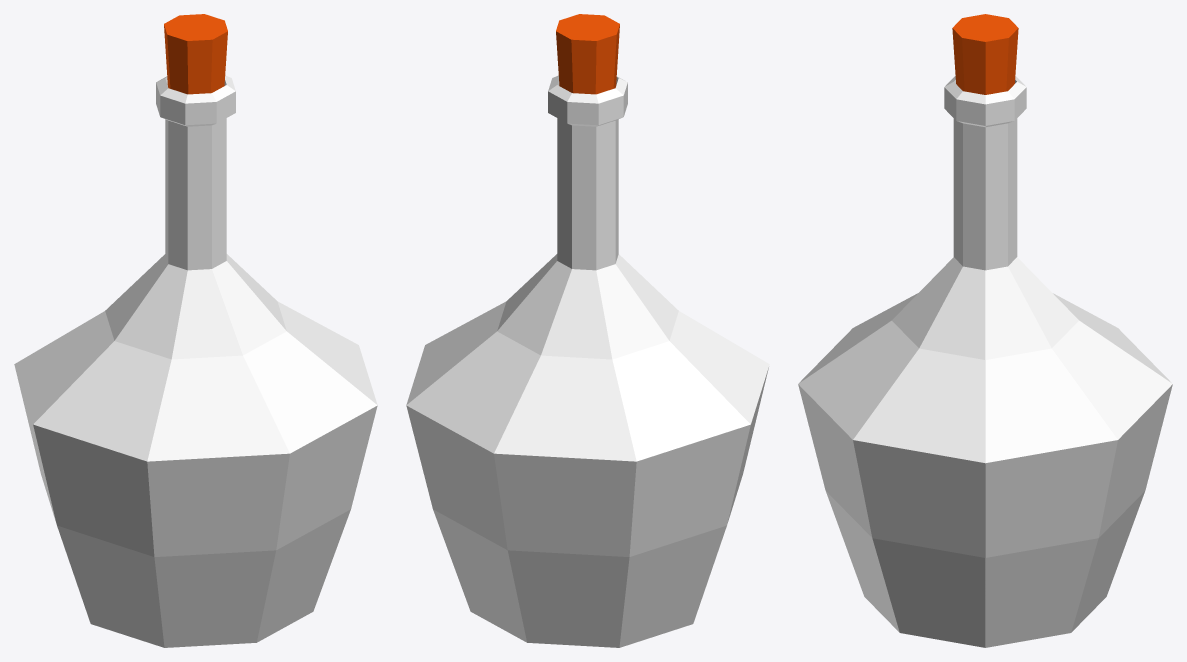
File: life_potion.glb
3 renders of one model, left to right at view 1: azimuth 30°, elevation 25°; view 2: azimuth 150°, elevation 25°; view 3: azimuth 270°, elevation 25°, orthographic.
Parts seen in each view (by area): view 1: Cylinder; view 2: Cylinder; view 3: Cylinder.
Part boxes in pixels (box(x1,y1,x2,y2)): Cylinder: box(14, 14, 377, 647); Cylinder: box(406, 14, 769, 647); Cylinder: box(798, 14, 1172, 647).
Size of the model in its own units: 0.7209 by 1.21 by 0.7209.
